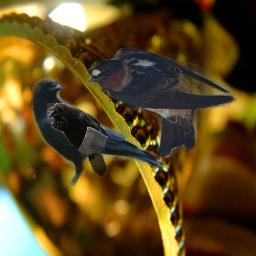Crow: (32, 76, 167, 186), (47, 103, 108, 178)
Swallow: (87, 46, 237, 158)
